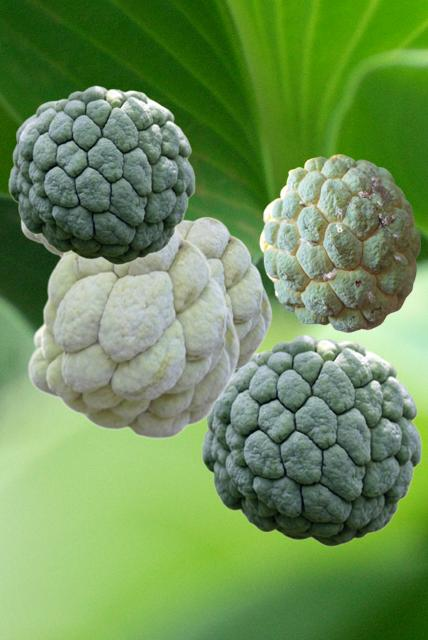atis: (201, 334, 421, 546), (27, 226, 239, 438), (8, 85, 194, 264), (259, 154, 419, 331), (178, 216, 271, 369), (20, 220, 61, 257)
